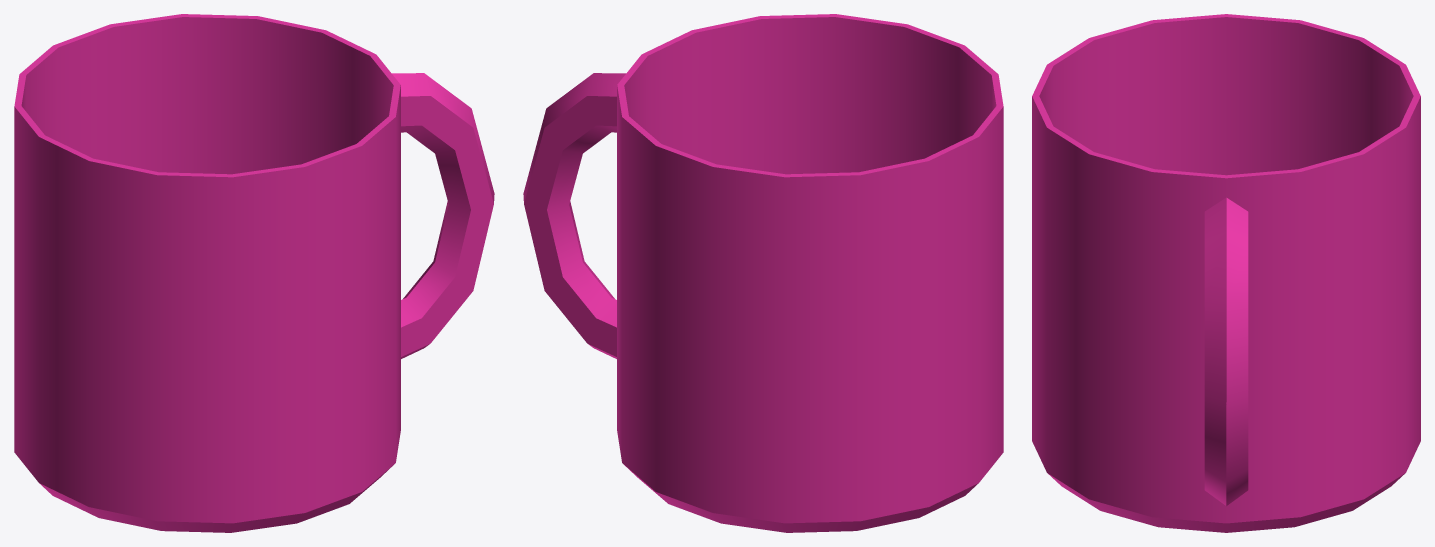
The model's file is Taza13.fbx.
The picture shows the model from 3 angles, left to right: view 1: azimuth 30°, elevation 25°; view 2: azimuth 150°, elevation 25°; view 3: azimuth 270°, elevation 25°; orthographic projection.
Parts seen in each view (by area): view 1: Taza13; view 2: Taza13; view 3: Taza13.
Part boxes in pixels (x1,y1,x2,y2): Taza13: (14,14,494,532); Taza13: (523,14,1003,532); Taza13: (1032,14,1420,532).
Size of the model in its own units: 0.1046 by 0.0795 by 0.0775.
